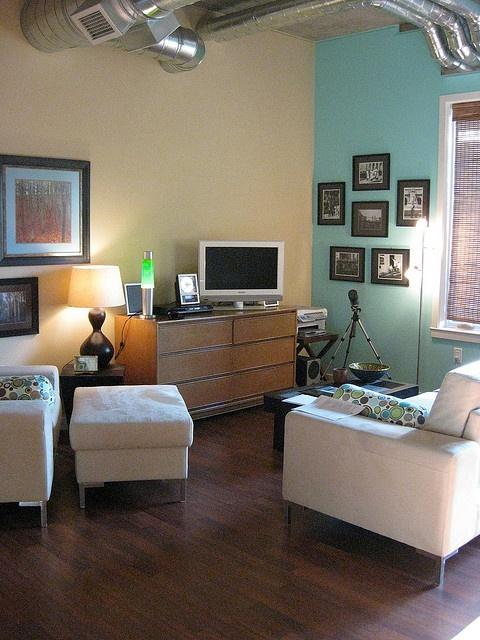AIO PC-Monitor-TV: (196, 238, 284, 302)
